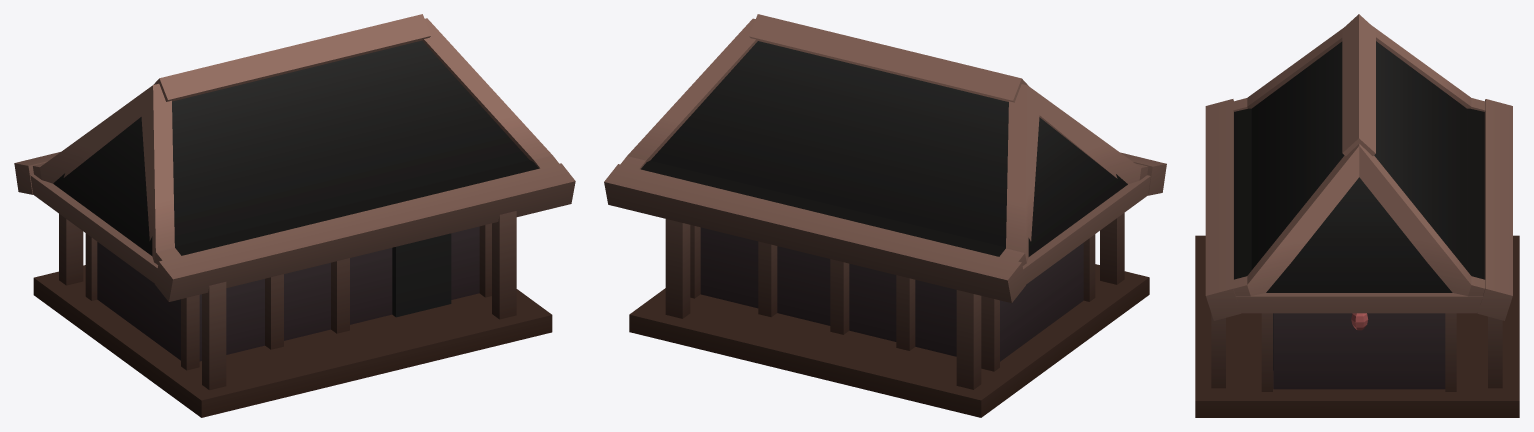
File: Rumah 4.fbx
3 renders of one model, left to right at view 1: azimuth 30°, elevation 25°; view 2: azimuth 150°, elevation 25°; view 3: azimuth 270°, elevation 25°, orthographic. The views are drawn at different scales.
Parts seen in each view (by area): view 1: Plane, Cube.018, Cube.017, Plane.001, Plane.003, Cube.011, Cube.003, Plane.002, Cube.025, Cube.021, Cube.019, Cube.022 (+6 smaller); view 2: Plane, Cube.018, Plane.001, Cube.010, Plane.003, Cube.011, Cube.003, Cube.025, Cube.020, Cube.022, Cube.021, Cube.015 (+6 smaller); view 3: Plane, Cube.018, Plane.001, Plane.003, Cube.023, Cube.017, Cube.010, Cube.024, Cube.011, Cube.020, Cube.019, Cube.005 (+1 smaller).
Part boxes in pixels (x1,y1,x2,y2): Plane: [172, 40, 538, 255]; Cube.018: [33, 265, 552, 417]; Cube.017: [155, 163, 575, 301]; Plane.001: [97, 226, 479, 361]; Plane.003: [33, 18, 558, 264]; Cube.011: [153, 14, 431, 101]; Cube.003: [53, 117, 152, 255]; Plane.002: [392, 233, 451, 317]; Cube.025: [30, 174, 157, 283]; Cube.021: [202, 282, 226, 390]; Cube.019: [492, 211, 516, 319]; Cube.022: [59, 214, 83, 285]; Plane: [641, 41, 1008, 256]; Cube.018: [629, 264, 1149, 417]; Plane.001: [700, 227, 1083, 361]; Cube.010: [604, 164, 1025, 303]; Plane.003: [620, 18, 1148, 265]; Cube.011: [749, 14, 1028, 102]; Cube.003: [1028, 117, 1127, 256]; Cube.025: [1022, 175, 1150, 284]; Cube.020: [665, 219, 690, 318]; Cube.022: [956, 290, 981, 389]; Cube.021: [1100, 213, 1124, 284]; Cube.015: [830, 259, 849, 334]; Plane: [1234, 41, 1484, 279]; Cube.018: [1195, 235, 1519, 417]; Plane.001: [1273, 313, 1445, 389]; Plane.003: [1233, 26, 1485, 296]; Cube.023: [1266, 177, 1452, 292]; Cube.017: [1205, 99, 1241, 320]; Cube.010: [1477, 99, 1512, 320]; Cube.024: [1236, 293, 1482, 313]; Cube.011: [1342, 14, 1375, 155]; Cube.020: [1488, 316, 1502, 388]; Cube.019: [1211, 314, 1225, 388]; Cube.005: [1445, 313, 1456, 391].
Size of the model in its own units: 360 by 229 by 260.
